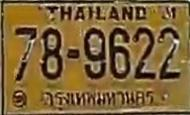2: (158, 26, 180, 78), (133, 26, 154, 78)
6: (108, 27, 129, 78)
7: (14, 26, 37, 80)
8: (40, 27, 62, 78)
9: (83, 27, 105, 78)
BKK: (40, 88, 158, 111)
